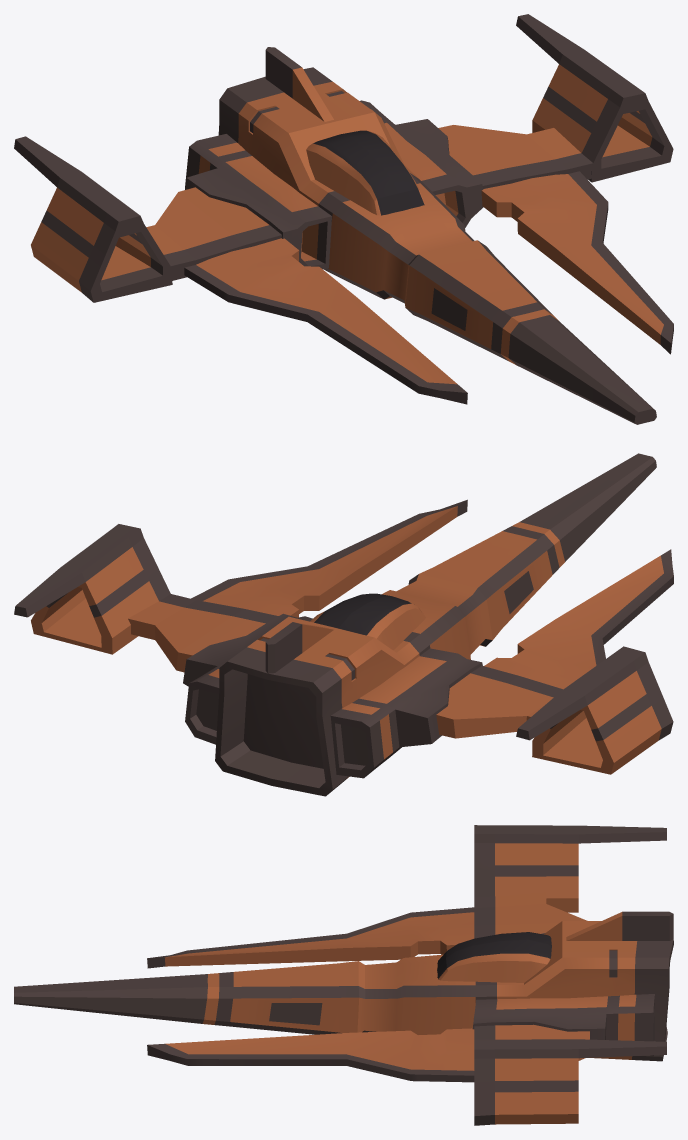
Rendered from q-spaceship-ucelfsdmnp.glb.
The picture shows the model from 3 angles, top to bottom: view 1: azimuth 30°, elevation 25°; view 2: azimuth 150°, elevation 25°; view 3: azimuth 270°, elevation 25°; orthographic projection. The views are drawn at different scales.
Visible parts, largest first — view 1: Spaceship_RaeTheRedPanda; view 2: Spaceship_RaeTheRedPanda; view 3: Spaceship_RaeTheRedPanda.
Boxes of the visible parts, box(x1,y1,x2,y2) form: Spaceship_RaeTheRedPanda: box(14, 14, 673, 424); Spaceship_RaeTheRedPanda: box(14, 453, 673, 796); Spaceship_RaeTheRedPanda: box(14, 825, 673, 1125).
Bounding box in the file's own units: 9.95 × 2.35 × 11.17.
Materials: 1 (1 with a texture image).
